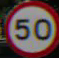Speed limit: (4, 3, 55, 50)
